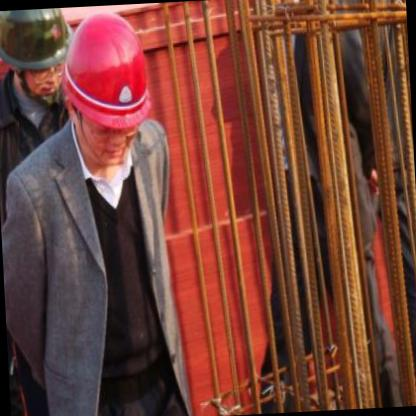helmet: (56, 4, 153, 169), (0, 7, 73, 100)
